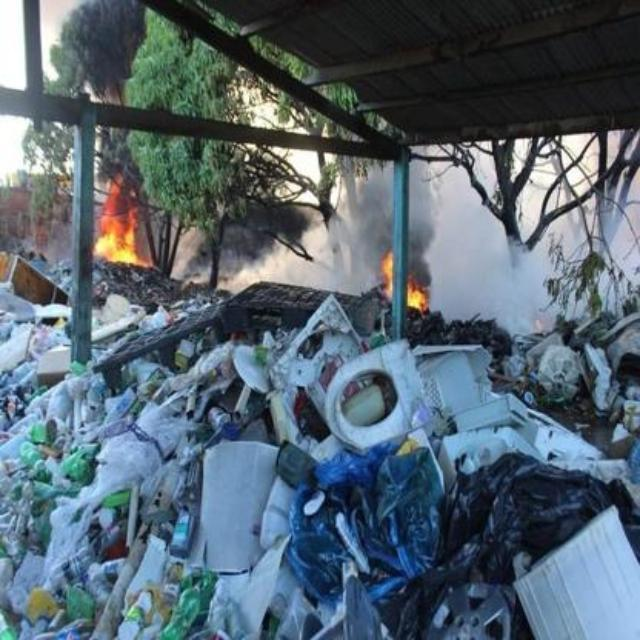Fire: (91, 176, 140, 262), (407, 275, 427, 311), (384, 250, 394, 300)
Smoke: (424, 136, 640, 336), (220, 152, 379, 292)
